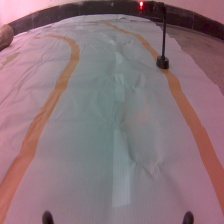red: (138, 1, 171, 71)
